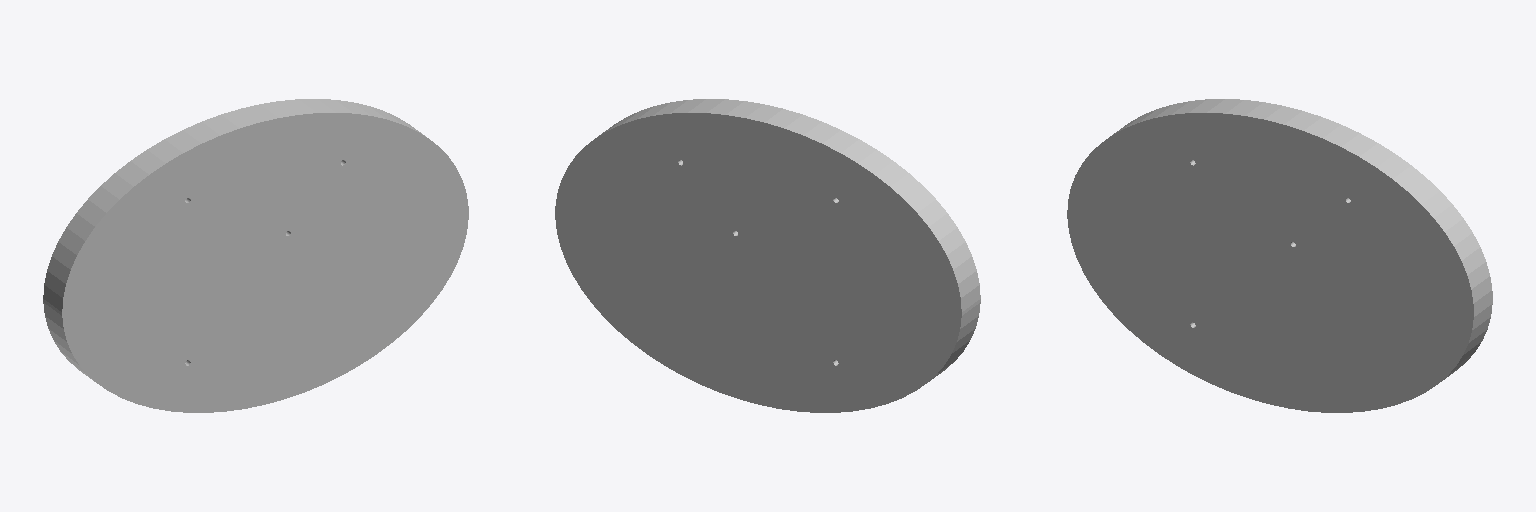
The model's file is ellip3.obj.
The picture shows the model from 3 angles: view 1: azimuth 30°, elevation 25°; view 2: azimuth 150°, elevation 25°; view 3: azimuth 330°, elevation 25°; orthographic projection.
Visible parts, largest first — view 1: StainlessSteel_ellip3; view 2: StainlessSteel_ellip3; view 3: StainlessSteel_ellip3.
Boxes of the visible parts, <box> form: StainlessSteel_ellip3: <box>43,99,468,412</box>; StainlessSteel_ellip3: <box>555,99,980,412</box>; StainlessSteel_ellip3: <box>1067,99,1492,412</box>.
Bounding box in the file's own units: 0.1572 × 0.1048 × 0.0127.